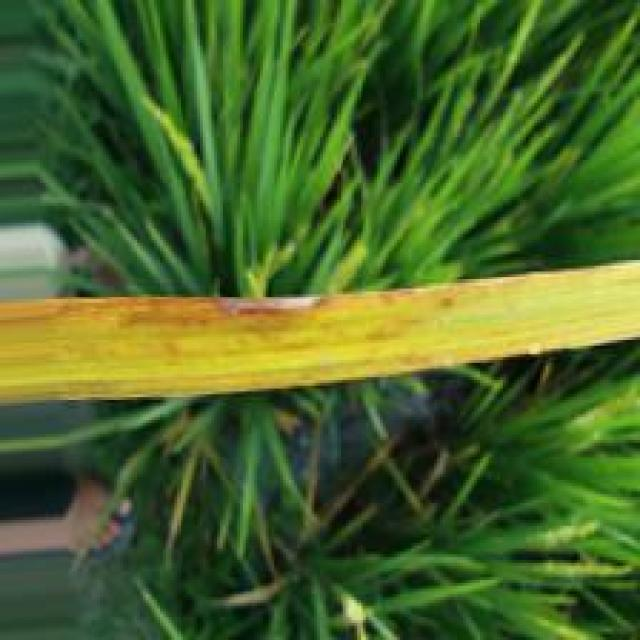Rice Tungro: (0, 280, 477, 325)
